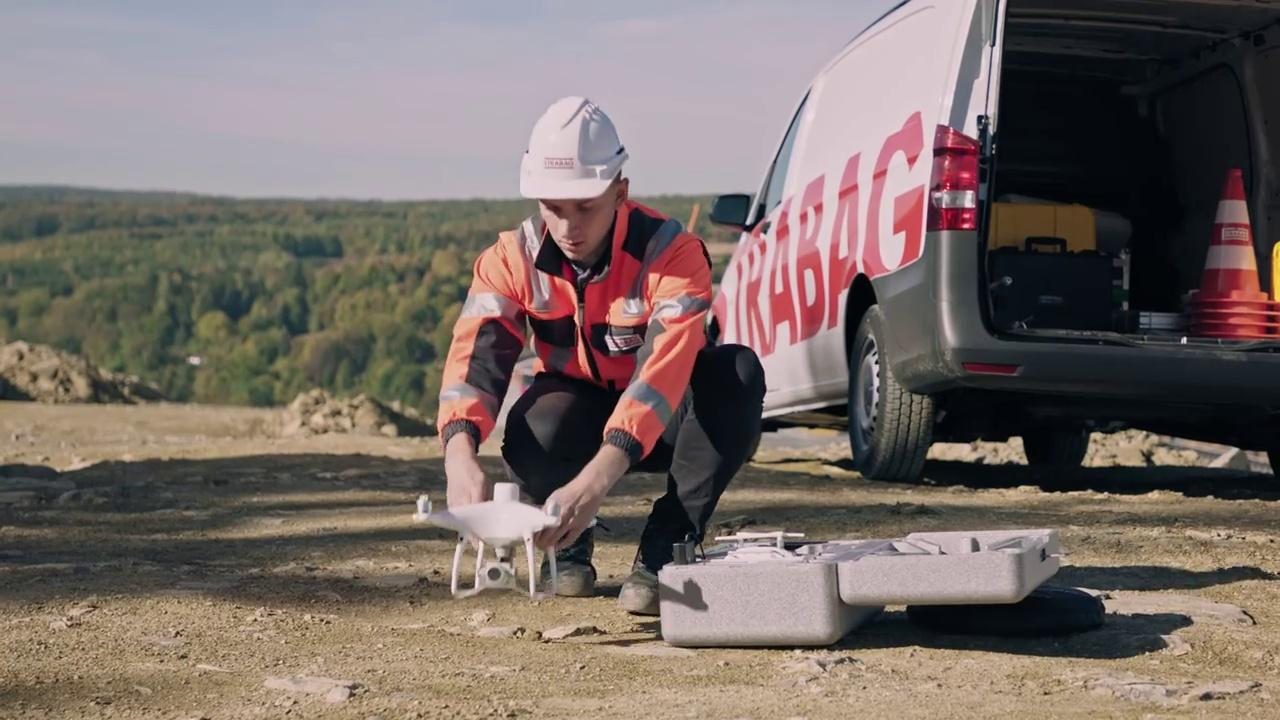drone: (411, 482, 559, 600)
